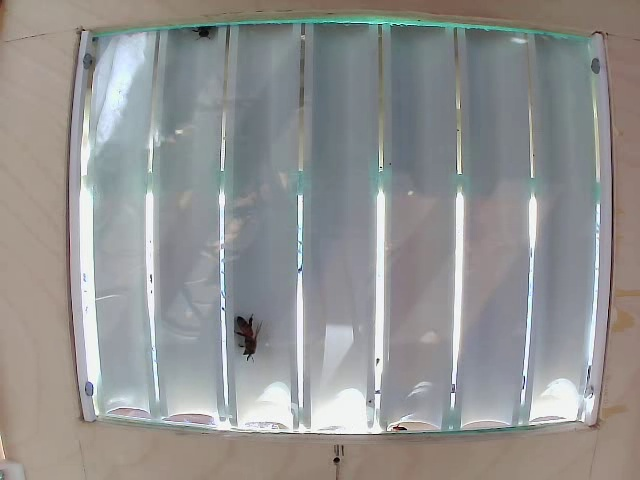bee: (228, 311, 258, 363)
